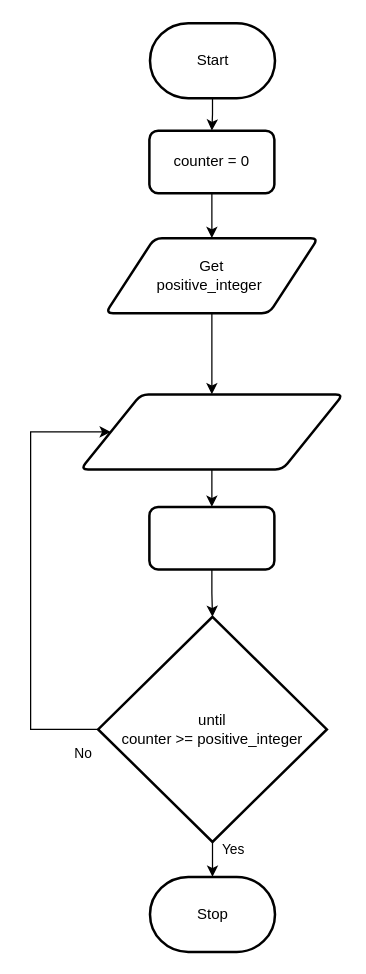
Image size: 366x974. Some labels were removed from this diagram. The centre of each missing label's shape, as x and y in pixels:
counter = counter + 1: (x=211, y=537)
Show "{counter} time(s) through the loop.": (x=211, y=431)
